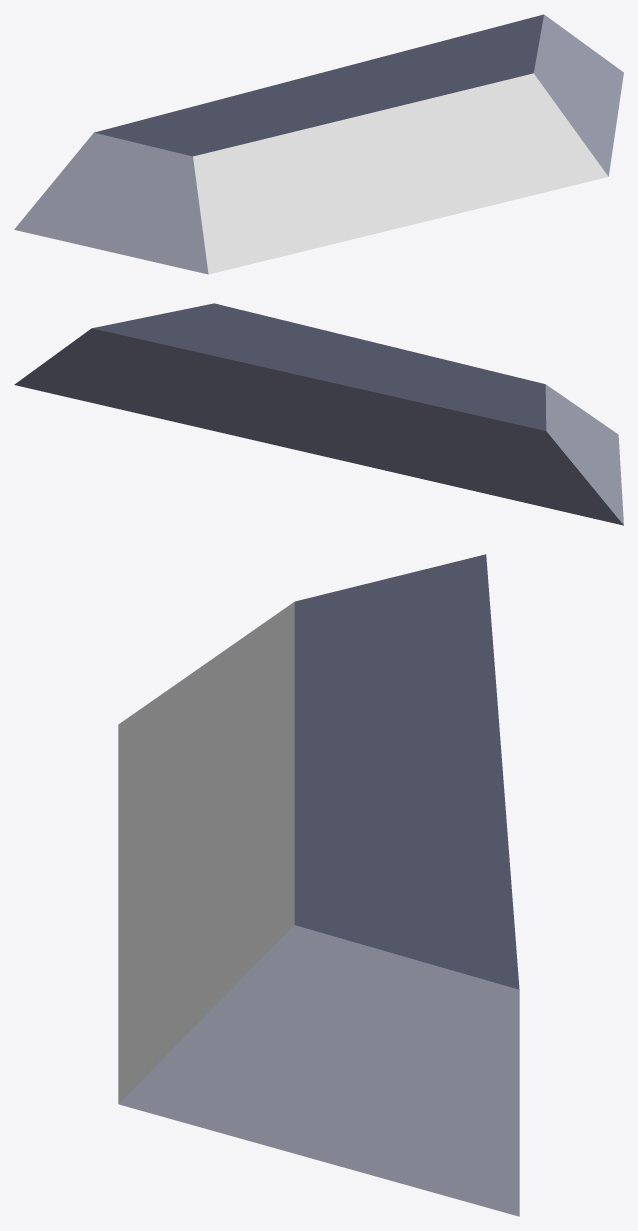
File: StageSkirt.glb
The picture shows the model from 3 angles, top to bottom: view 1: azimuth 30°, elevation 25°; view 2: azimuth 150°, elevation 25°; view 3: azimuth 270°, elevation 25°; orthographic projection. The views are drawn at different scales.
Parts seen in each view (by area): view 1: StageSkirt; view 2: StageSkirt; view 3: StageSkirt.
Boxes of the visible parts, x1,y1,x2,y2 form: StageSkirt: [14, 14, 623, 274]; StageSkirt: [14, 303, 623, 525]; StageSkirt: [118, 554, 519, 1216].
Bounding box in the file's own units: 7.25 × 0.8704 × 2.09.
